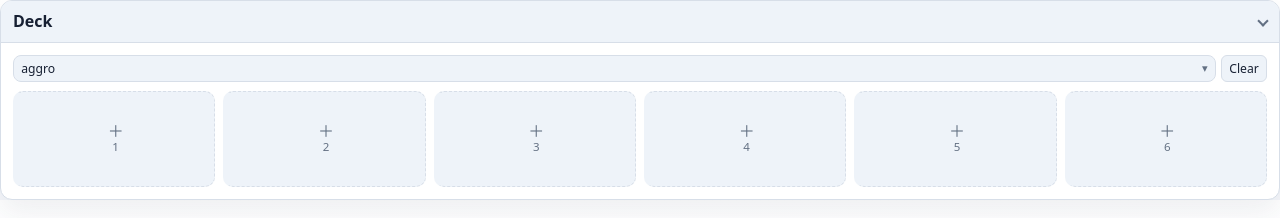
it: YourDeckCard › clearing the name field is a no-op (reverts; does not detach)
Clear the field with placeholder "Unsaved deck — type to name" at (614, 68), box [13,55,1216,82]
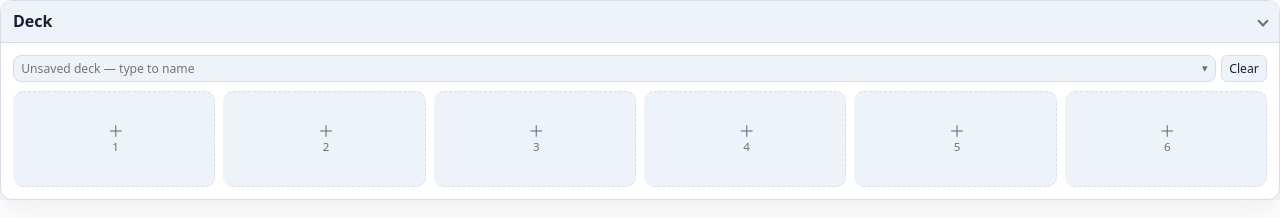
Leave the field with placeholder "Unsaved deck — type to name", box [13,55,1216,82]
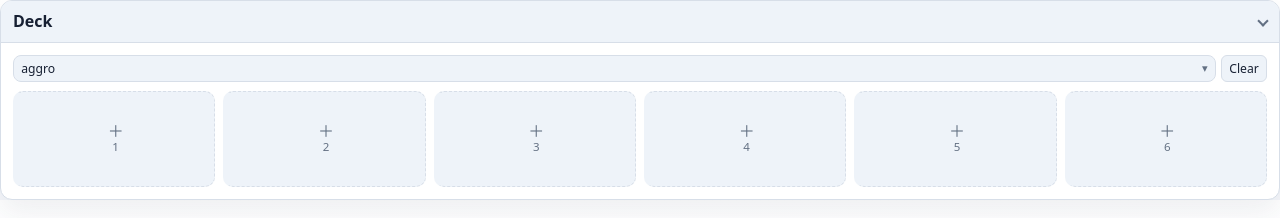
Check: the field with placeholder "Unsaved deck — type to name" holds "aggro", box [13,55,1216,82]
